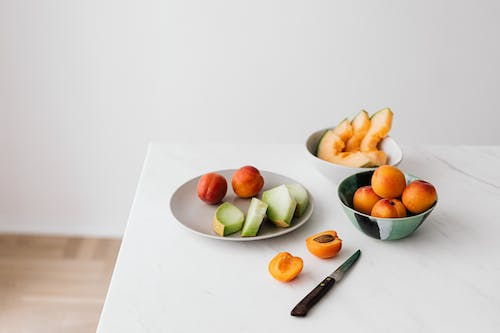knife: (289, 248, 362, 317)
